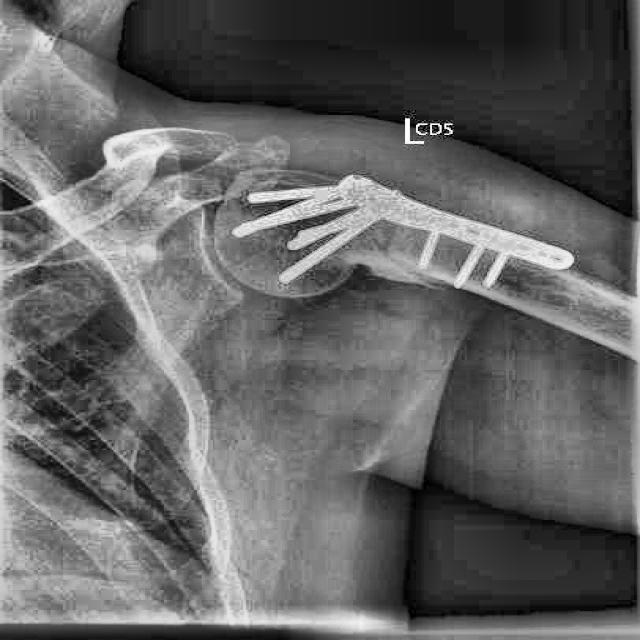shoulder fracture: (335, 232, 480, 316)
